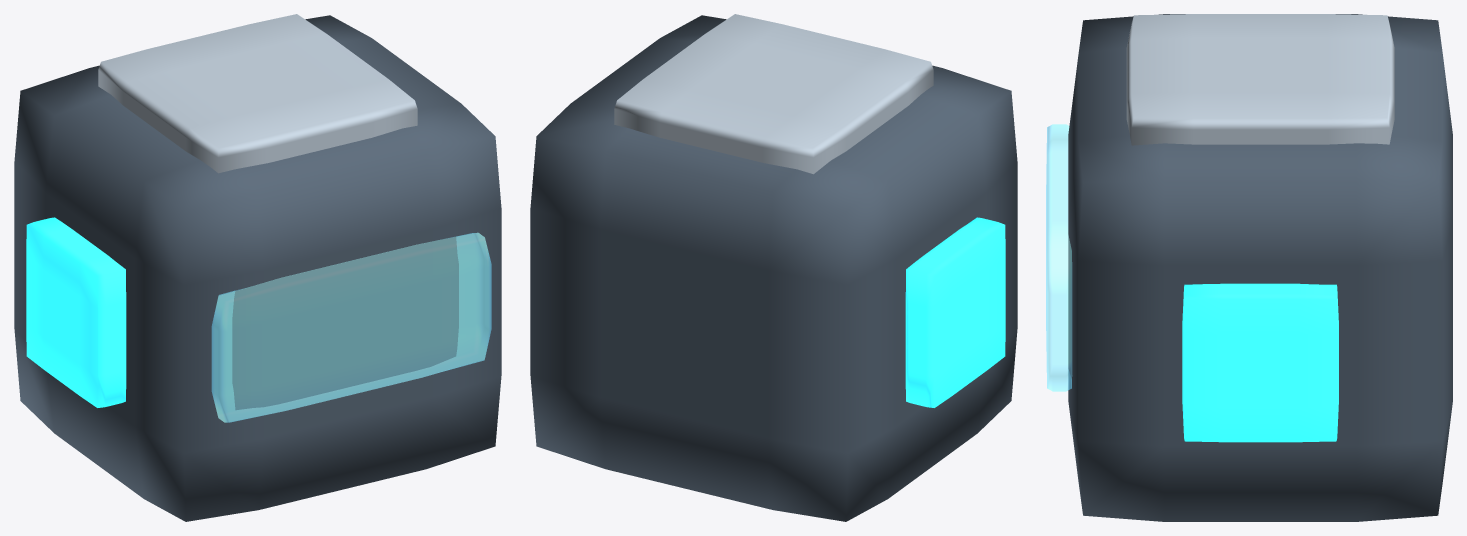
The model's file is helmet-orbit.glb.
3 renders of one model, left to right at view 1: azimuth 30°, elevation 25°; view 2: azimuth 150°, elevation 25°; view 3: azimuth 270°, elevation 25°, orthographic. The views are drawn at different scales.
Visible parts, largest first — view 1: Helmet, Visor, Crown, SideL; view 2: Helmet, Crown, SideL; view 3: Helmet, Crown, SideR, Visor.
Part boxes in pixels (box(x1,y1,x2,y2)): Helmet: box(14, 15, 501, 521); Visor: box(211, 232, 491, 422); Crown: box(98, 14, 417, 173); SideL: box(26, 217, 126, 407); Helmet: box(530, 15, 1017, 521); Crown: box(614, 14, 933, 174); SideL: box(905, 217, 1005, 407); Helmet: box(1068, 14, 1452, 521); Crown: box(1126, 14, 1394, 145); SideR: box(1182, 283, 1338, 442); Visor: box(1046, 124, 1072, 391).
Bounding box in the file's own units: 2.18 × 1.89 × 1.82.
